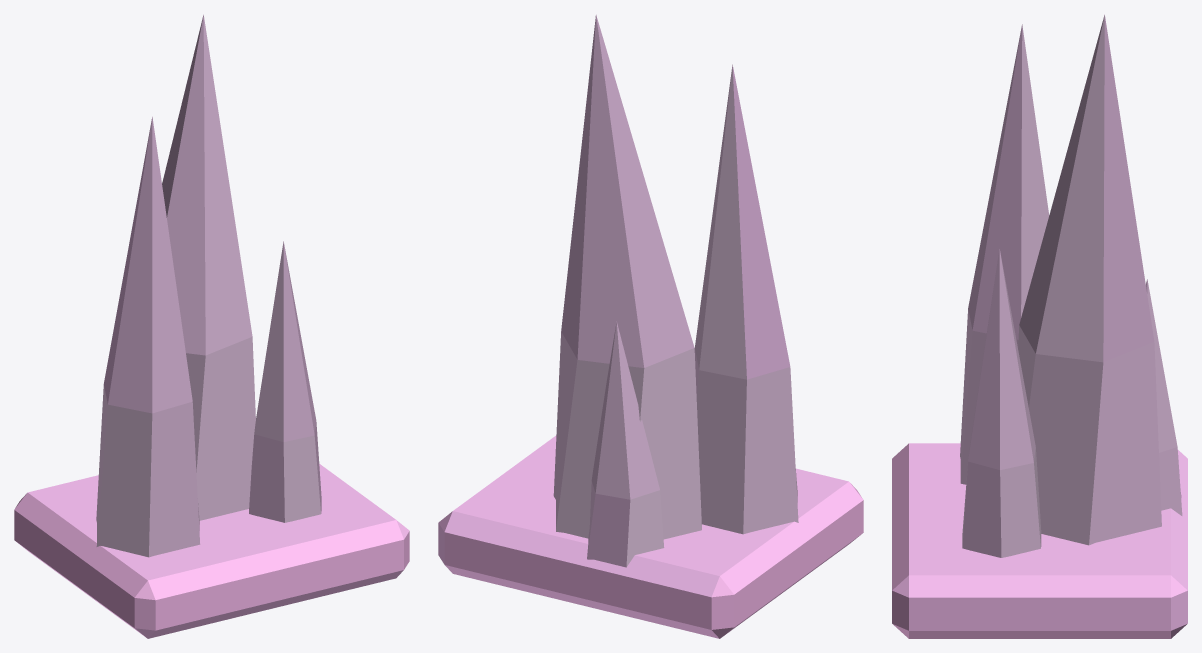
The model's file is Crystal_Medium.fbx.
The picture shows the model from 3 angles, left to right: view 1: azimuth 30°, elevation 25°; view 2: azimuth 150°, elevation 25°; view 3: azimuth 270°, elevation 25°; orthographic projection. The views are drawn at different scales.
Parts seen in each view (by area): view 1: Crystal_Medium; view 2: Crystal_Medium; view 3: Crystal_Medium.
Part boxes in pixels (x1,y1,x2,y2): Crystal_Medium: (14,15,409,638); Crystal_Medium: (438,14,863,638); Crystal_Medium: (892,14,1187,638).
Bounding box in the file's own units: 118 × 215 × 101.
